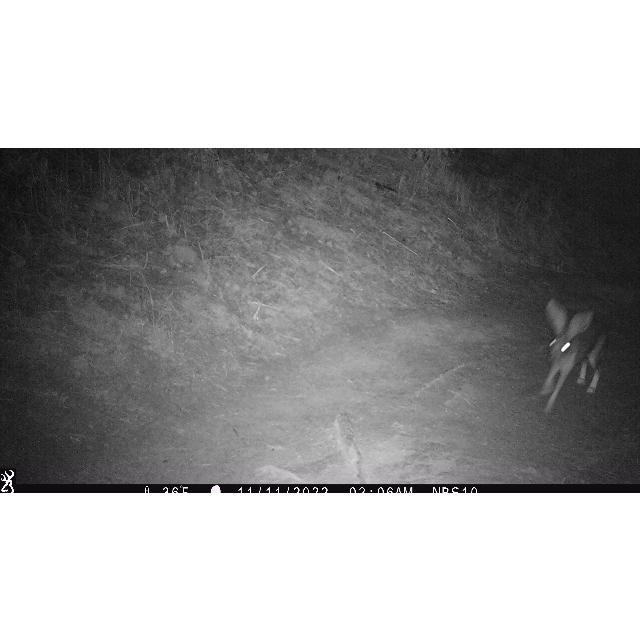animals: (540, 296, 612, 416)
